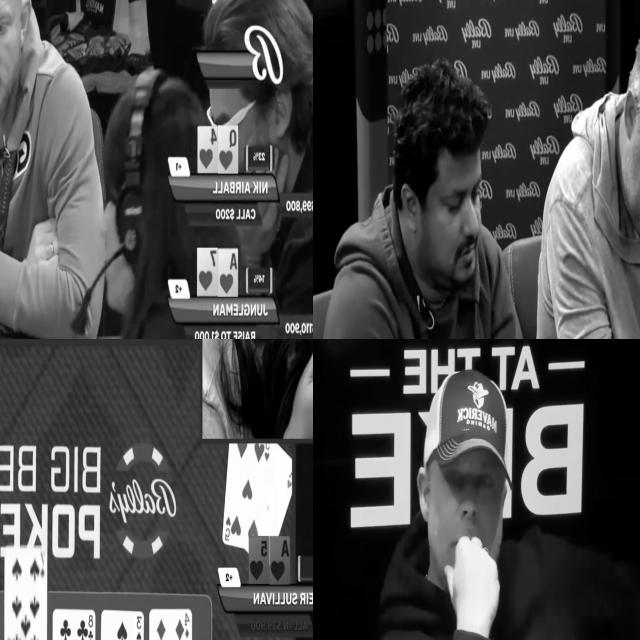4H: (197, 127, 217, 173)
5H: (249, 536, 269, 584)
7H: (197, 248, 218, 297)
AH: (218, 246, 238, 297), (270, 536, 289, 584)
QH: (218, 124, 238, 174)
